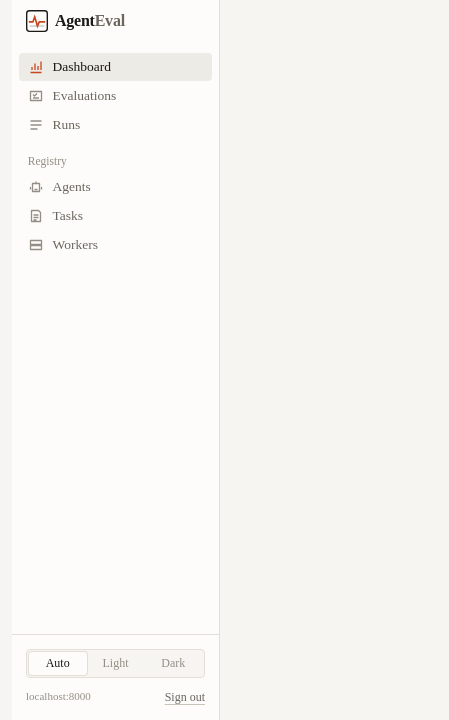
Test case: AuthGate › Sign out clears the key and shows the form again
The width and height of the screenshot is (449, 720).
Click the button "Sign out" at coordinates (185, 697), box [165,689,205,706]
(page scrolled)
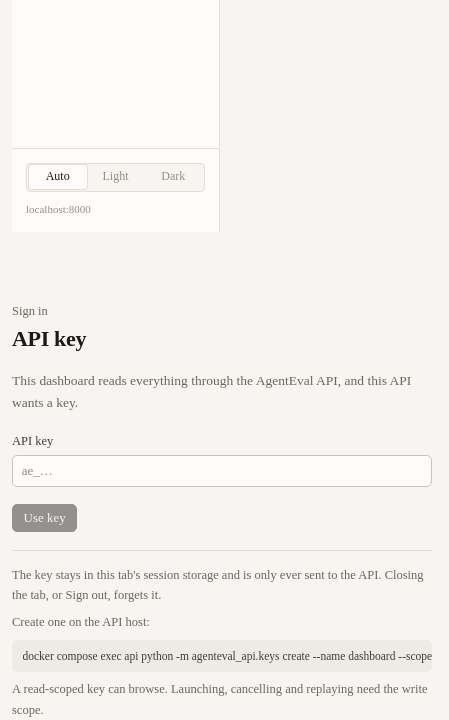
Expected: the button "Sign out" is not shown
Expected: the form "API key" is shown, [12,302,432,719]
